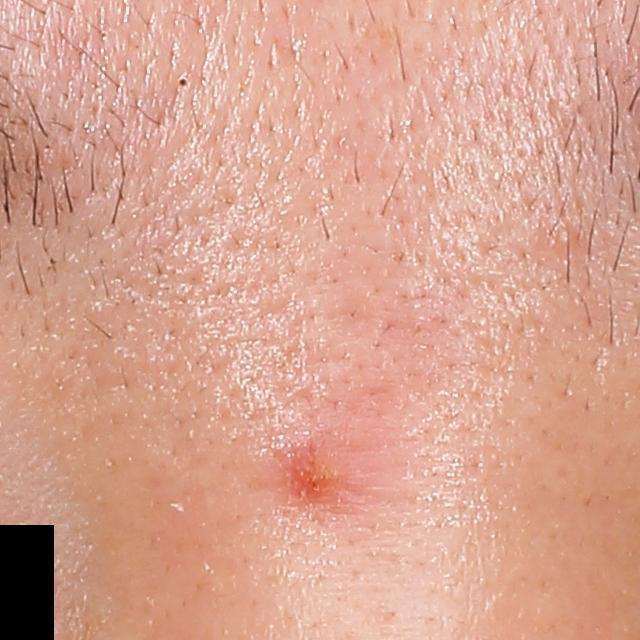comedo: (555, 227, 584, 246), (174, 74, 195, 91)
papule: (278, 434, 347, 497)
